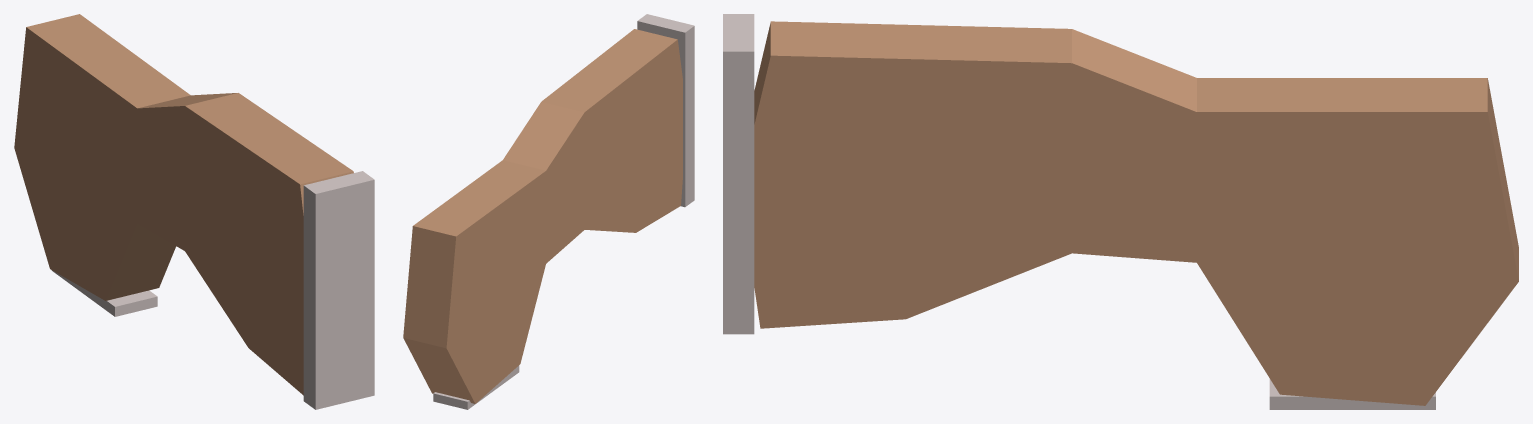
Rendered from drum_shotgun_stock.glb.
3 renders of one model, left to right at view 1: azimuth 30°, elevation 25°; view 2: azimuth 150°, elevation 25°; view 3: azimuth 270°, elevation 25°, orthographic. The views are drawn at different scales.
Parts seen in each view (by area): view 1: stock; view 2: stock; view 3: stock.
Part boxes in pixels (<box>): stock: <box>14,14,374,409</box>; stock: <box>403,14,694,409</box>; stock: <box>723,14,1518,409</box>.
Size of the model in its own units: 0.043 by 0.193 by 0.383.
